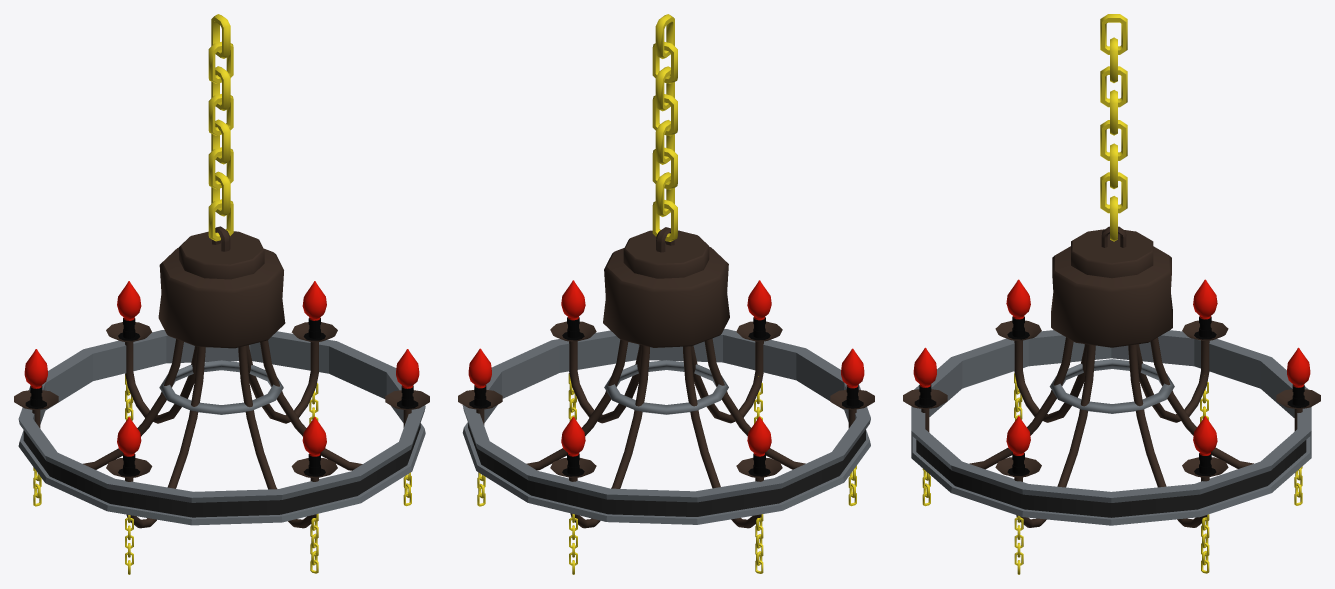
The model's file is Chandelier.fbx.
3 renders of one model, left to right at view 1: azimuth 30°, elevation 25°; view 2: azimuth 150°, elevation 25°; view 3: azimuth 270°, elevation 25°, orthographic.
Visible parts, largest first — view 1: Cylinder001; view 2: Cylinder001; view 3: Cylinder001.
Part boxes in pixels (x1,y1,x2,y2): Cylinder001: (14,14,429,574); Cylinder001: (458,14,874,574); Cylinder001: (903,14,1320,574).
Size of the model in its own units: 0.9794 by 1.29 by 0.9968.
